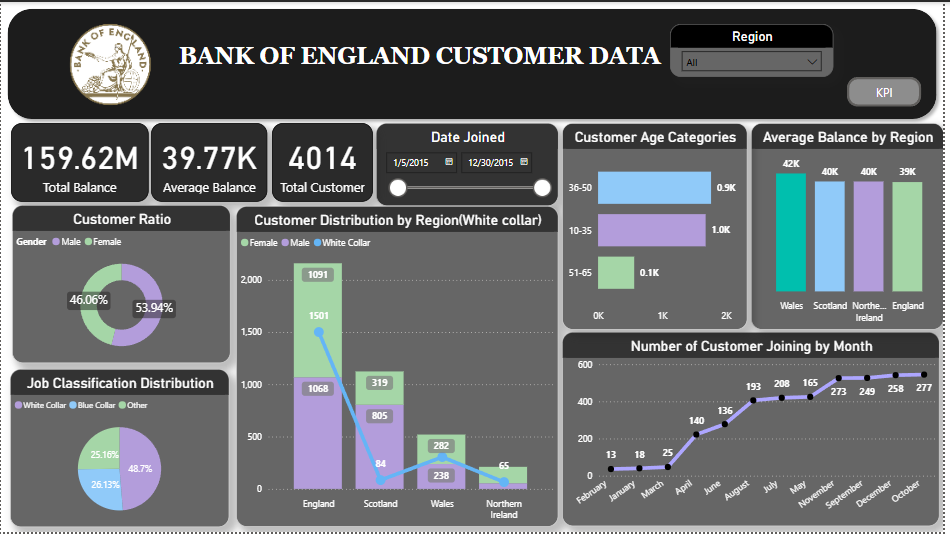

What the dashboard file says about the page in this screenshot:
{"tool":"powerbi","page":{"name":"General Info","canvas":[1280,720],"ordinal":0},"visuals":[{"type":"shape","title":"BANK OF ENGLAND CUSTOMER DATA","box":[0,0,1280,168],"z":0},{"type":"textbox","box":[236.9,50.4,702.2,68.9],"z":1000},{"type":"slicer","title":"Date Joined","fields":{"Values":["P1-UK-Bank-Customers.Date Joined"]},"box":[509.2,163.8,247.7,112.9],"z":2000},{"type":"card","title":"Average Balance","fields":{"Values":["Avg(P1-UK-Bank-Customers.Balance)"]},"box":[204.2,163.7,158.5,107.4],"z":3000},{"type":"card","title":"Average Balance","fields":{"Values":["Sum(P1-UK-Bank-Customers.Balance)"]},"box":[14.1,163.7,186.6,107.4],"z":4000},{"type":"card","title":"Average Balance","fields":{"Values":["CountNonNull(P1-UK-Bank-Customers.Customer ID)"]},"box":[368,163.7,137.3,107.4],"z":5000},{"type":"donutChart","title":"Customer Ratio","fields":{"Category":["P1-UK-Bank-Customers.Gender"],"Y":["CountNonNull(P1-UK-Bank-Customers.Customer ID)"]},"box":[14.3,276,297.5,214.5],"z":6000},{"type":"pieChart","title":"Job Classification Distribution","fields":{"Y":["CountNonNull(P1-UK-Bank-Customers.Customer ID)"],"Category":["P1-UK-Bank-Customers.Job Classification"]},"box":[12.3,498.3,297.6,214.8],"z":7000},{"type":"lineStackedColumnComboChart","title":"Customer Distribution by Region(White collar)","fields":{"Category":["P1-UK-Bank-Customers.Region"],"Series":["P1-UK-Bank-Customers.Gender"],"Y":["CountNonNull(P1-UK-Bank-Customers.Customer ID)"],"Y2":["P1-UK-Bank-Customers.White Collar"]},"box":[319.3,276.6,437.7,436.3],"z":8000},{"type":"lineChart","title":"Number of Customer Joining by Month","fields":{"Y":["CountNonNull(P1-UK-Bank-Customers.Customer ID)"],"Category":["P1-UK-Bank-Customers.Date Joined.Variation.Date Hierarchy.Month"]},"box":[762.5,448.7,513.4,264.3],"z":9000},{"type":"shape","box":[96,30.7,104,105.3],"z":10000},{"type":"image","box":[58.7,4,178.7,162.7],"z":11000},{"type":"columnChart","title":"Average Balance by Region","fields":{"Category":["P1-UK-Bank-Customers.Region"],"Y":["Avg(P1-UK-Bank-Customers.Balance)"]},"box":[1018.5,163.8,261.5,280.8],"z":12000},{"type":"barChart","title":"Customer Age Categories","fields":{"Category":["P1-UK-Bank-Customers.Age Group"],"Y":["CountNonNull(P1-UK-Bank-Customers.Customer ID)"]},"box":[762.5,163.8,251.9,280.8],"z":13000},{"type":"actionButton","box":[1149,102.5,100.8,40.3],"z":14000},{"type":"slicer","title":"Region","fields":{"Values":["P1-UK-Bank-Customers.Region"]},"box":[908.8,30.2,221.7,72.2],"z":15000}]}

Visuals, with their boxes in screenshot pixels (x1, y1, x2, y2), scaled from the page's 1280x720 canvas onto the 950x534 screenshot:
"BANK OF ENGLAND CUSTOMER DATA" shape: [0,0,949,125]
textbox: [176,37,697,88]
"Date Joined" slicer: [378,121,562,205]
"Average Balance" card: [152,121,269,201]
"Average Balance" card: [10,121,149,201]
"Average Balance" card: [273,121,375,201]
"Customer Ratio" donutChart: [11,205,231,364]
"Job Classification Distribution" pieChart: [9,370,230,529]
"Customer Distribution by Region(White collar)" lineStackedColumnComboChart: [237,205,562,529]
"Number of Customer Joining by Month" lineChart: [566,333,947,529]
shape: [71,23,148,101]
image: [44,3,176,124]
"Average Balance by Region" columnChart: [756,121,949,330]
"Customer Age Categories" barChart: [566,121,753,330]
actionButton: [853,76,928,106]
"Region" slicer: [674,22,839,76]
